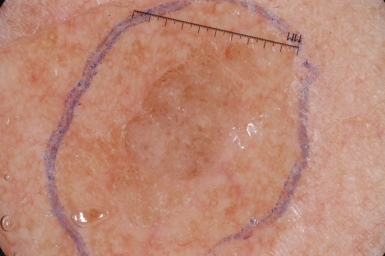seborrheic keratosis: (115, 38, 265, 200)
